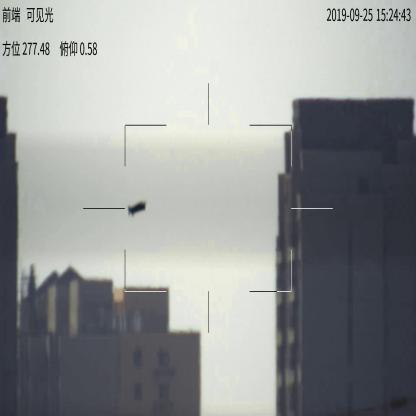uav: (127, 202, 146, 216)
